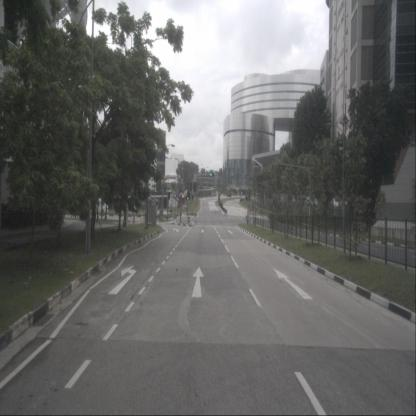human-pedestrian-adult: (185, 203, 187, 217)
vehicle-car: (85, 197, 109, 217)
